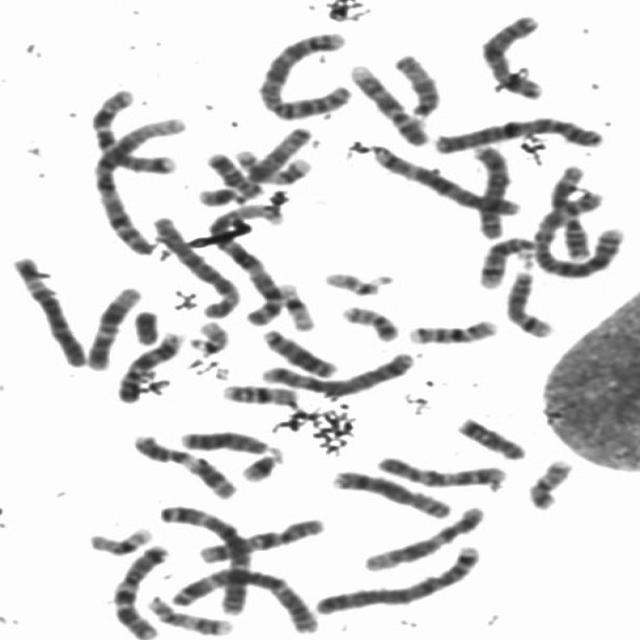A1: (88, 115, 188, 256), (207, 204, 302, 329)
A2: (251, 28, 355, 122), (528, 186, 624, 281)
A3: (156, 501, 252, 615), (168, 564, 320, 635)
B4: (320, 544, 498, 614), (429, 119, 598, 155)
B5: (371, 140, 524, 220), (259, 353, 415, 399)
C10: (194, 515, 327, 565), (372, 452, 508, 490)
C11: (127, 432, 237, 502), (550, 167, 598, 263)
C12: (358, 503, 486, 572), (82, 283, 142, 371)
C6: (149, 213, 241, 320), (9, 252, 88, 368)
C7: (85, 86, 178, 177), (113, 545, 178, 640)
C8: (328, 468, 453, 519), (468, 143, 510, 241)
C9: (343, 62, 429, 148), (111, 329, 185, 405)
D13: (259, 326, 338, 380), (176, 428, 270, 455)
D14: (501, 268, 555, 339), (474, 234, 536, 290)
D15: (238, 124, 316, 184), (391, 52, 441, 120)
E16: (403, 316, 499, 346), (218, 382, 300, 408)
E17: (143, 594, 233, 637), (230, 147, 313, 186)
E18: (452, 417, 528, 461), (202, 150, 263, 202)
F19: (80, 523, 154, 554), (276, 280, 317, 332)
F20: (524, 453, 574, 511), (336, 302, 399, 341)
G21: (237, 446, 284, 484), (194, 184, 247, 208)
G22: (319, 270, 393, 296), (184, 319, 232, 356)
X: (481, 15, 556, 100)
Y: (128, 308, 160, 346)
